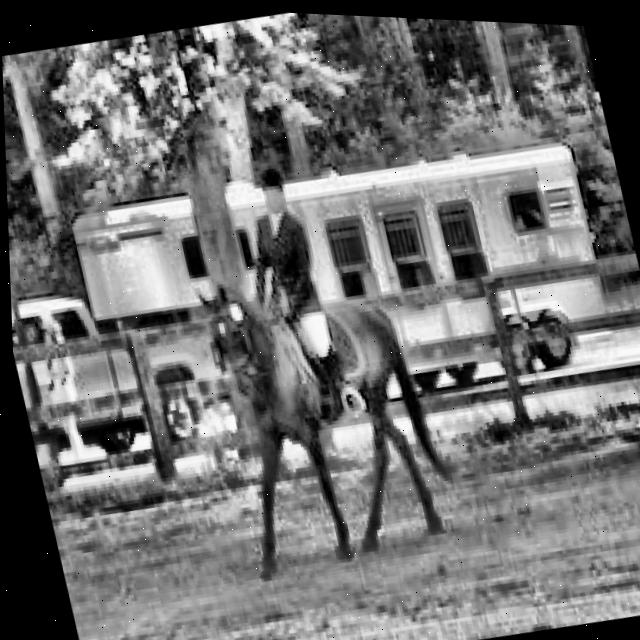light_vehicle: (8, 258, 240, 486)
